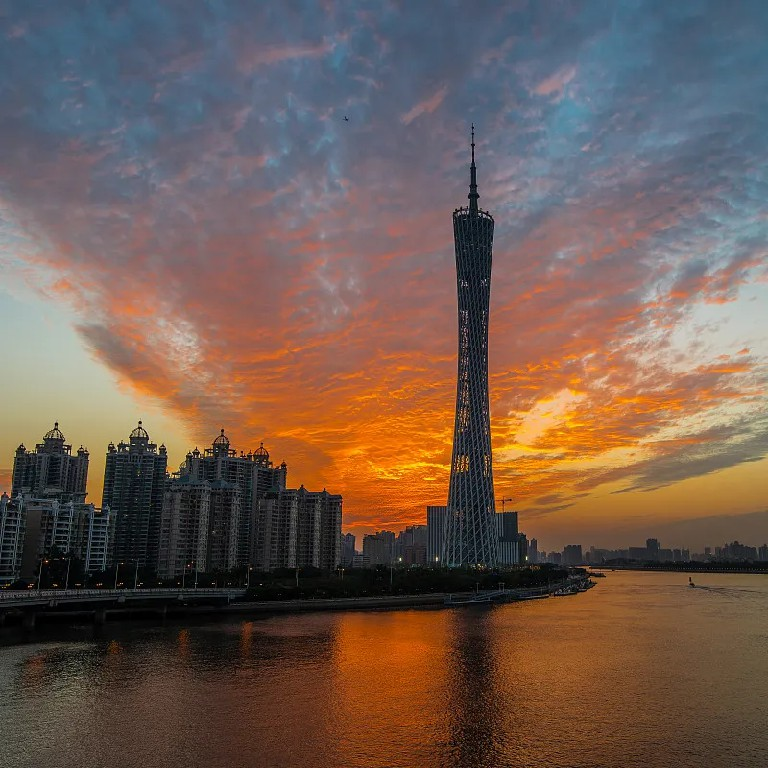Canton: (449, 119, 505, 568)
